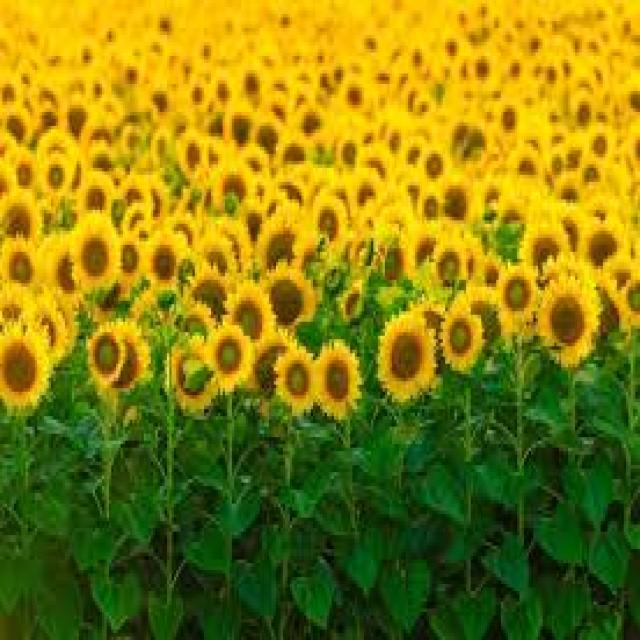sunflower: (534, 271, 606, 369), (366, 308, 440, 402), (62, 212, 134, 296), (255, 259, 332, 336), (0, 320, 53, 418), (161, 327, 222, 411), (307, 339, 365, 420), (437, 294, 491, 374), (220, 278, 276, 352), (203, 324, 256, 394), (520, 219, 570, 292), (78, 318, 128, 385), (275, 350, 321, 416), (426, 231, 471, 294), (139, 231, 183, 290), (494, 271, 540, 327), (2, 235, 42, 298), (170, 124, 213, 180), (312, 192, 351, 252), (38, 152, 76, 205), (493, 100, 532, 145), (414, 140, 451, 182), (567, 87, 597, 133)
